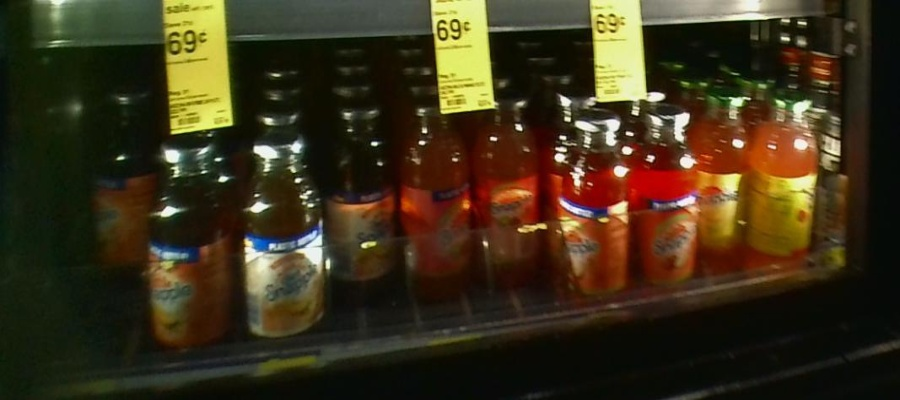bottle: (152, 130, 237, 350), (244, 123, 324, 349), (473, 98, 547, 290), (400, 96, 468, 304), (633, 96, 702, 293), (560, 106, 628, 305), (326, 96, 395, 287), (755, 83, 822, 273), (89, 83, 148, 265), (703, 80, 751, 268)
